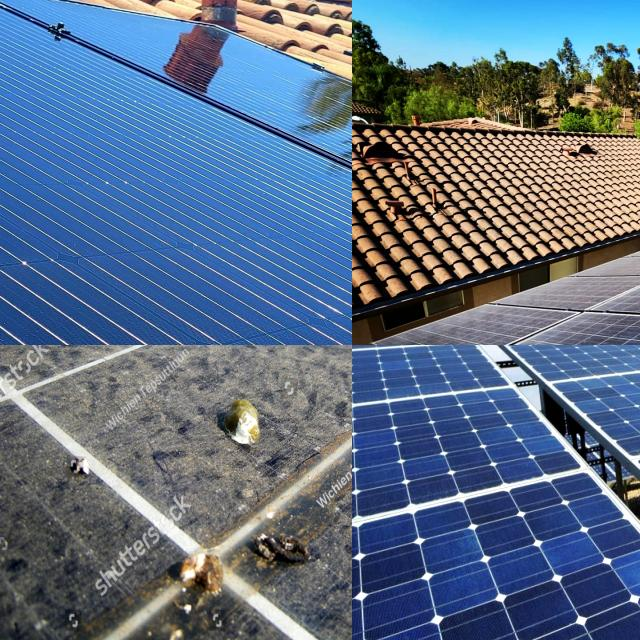bird: (244, 501, 322, 573), (174, 521, 228, 611), (215, 376, 265, 451), (52, 452, 104, 489)
crack: (352, 387, 583, 547), (355, 523, 640, 640), (0, 208, 228, 324), (548, 345, 640, 484), (0, 33, 120, 132), (121, 109, 241, 190), (202, 42, 322, 121), (94, 286, 252, 345), (293, 208, 352, 338), (0, 23, 64, 112), (305, 90, 352, 192), (0, 110, 51, 201), (0, 95, 75, 155), (0, 0, 29, 51)
dust: (493, 322, 640, 345)
